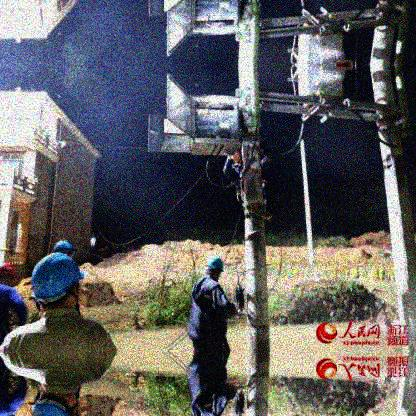helmet: (31, 252, 89, 313), (29, 385, 84, 416), (204, 257, 226, 282), (1, 260, 20, 287)
